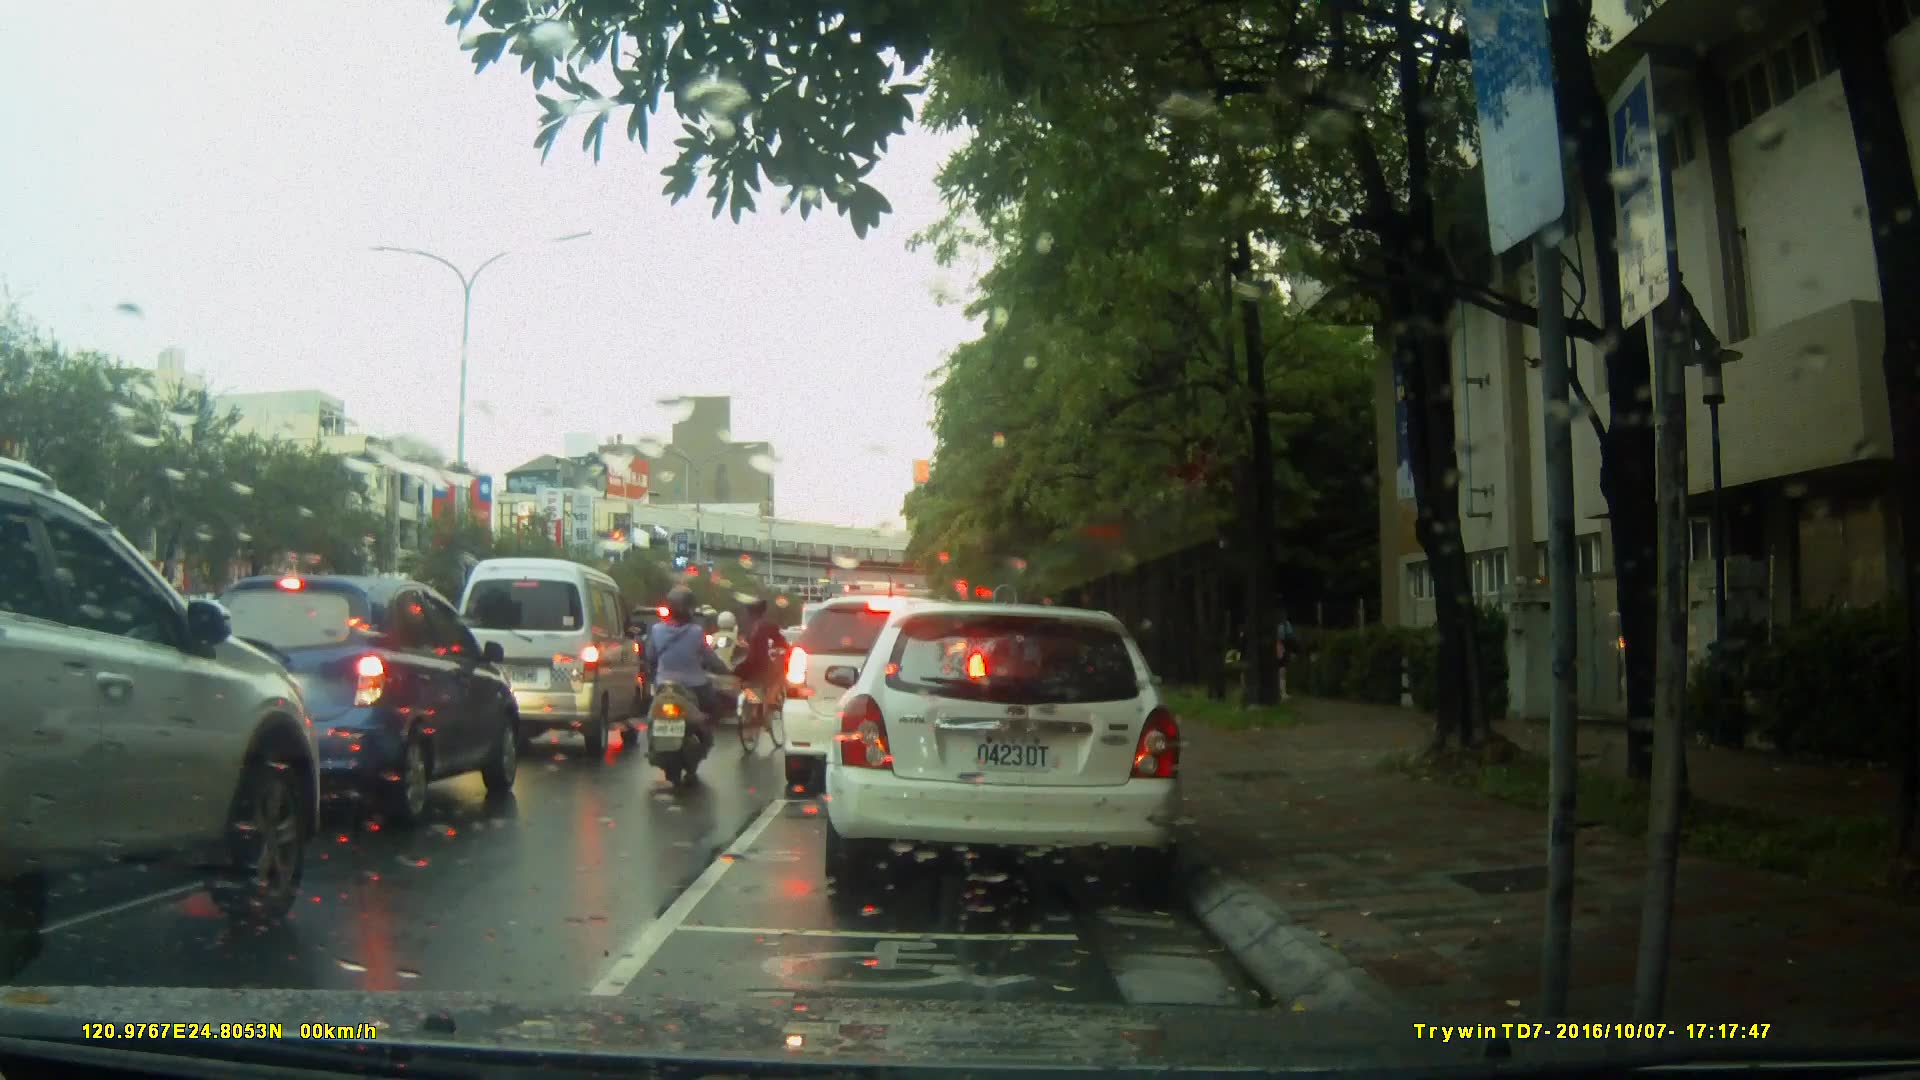pedestrian: (1276, 592, 1297, 709)
rider: (645, 582, 718, 792), (741, 589, 796, 757), (705, 608, 752, 720)
vehicle: (1, 453, 327, 986), (815, 593, 1204, 909), (190, 572, 528, 825), (776, 594, 989, 793), (452, 557, 646, 758), (616, 602, 750, 717)
